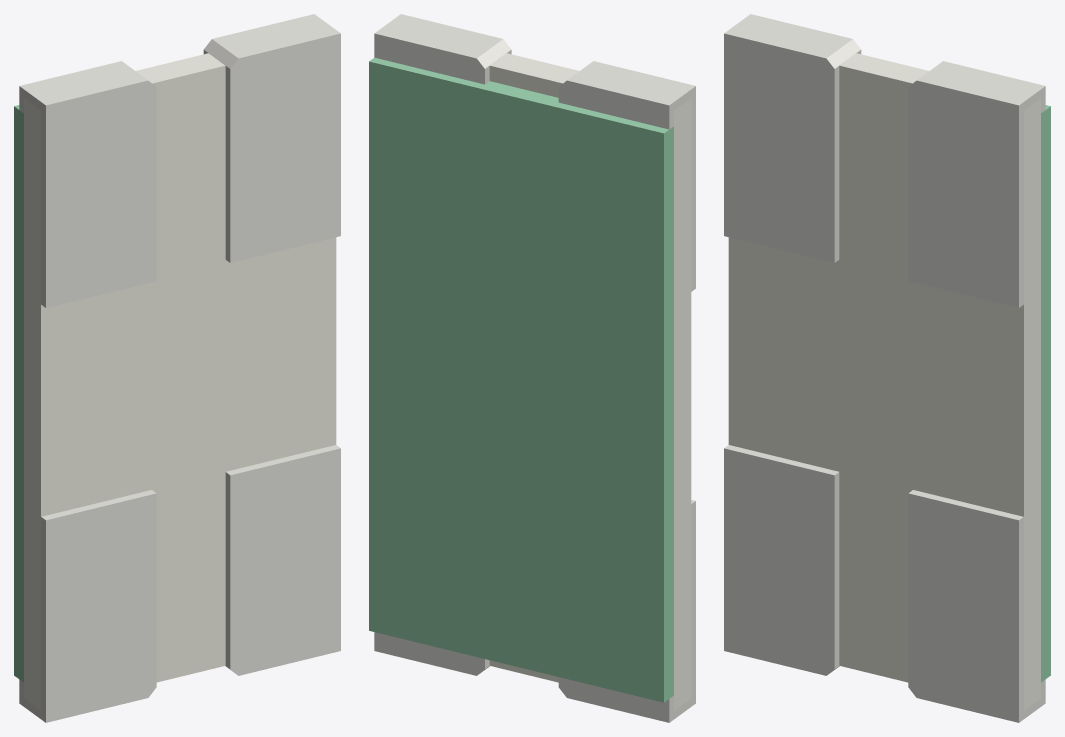
The model's file is R_Shunt_Ohmite_LVK24.glb.
3 renders of one model, left to right at view 1: azimuth 30°, elevation 25°; view 2: azimuth 150°, elevation 25°; view 3: azimuth 330°, elevation 25°, orthographic.
Visible parts, largest first — view 1: Shape_IndexedFaceSet.009, Shape_IndexedFaceSet.026, Shape_IndexedFaceSet.032, Shape_IndexedFaceSet, Shape_IndexedFaceSet.036, Shape_IndexedFaceSet.020, Shape_IndexedFaceSet.025, Shape_IndexedFaceSet.027, Shape_IndexedFaceSet.039, Shape_IndexedFaceSet.034, Shape_IndexedFaceSet.035, Shape_IndexedFaceSet.023 (+4 smaller); view 2: Shape_IndexedFaceSet.015, Shape_IndexedFaceSet.020, Shape_IndexedFaceSet.025, Shape_IndexedFaceSet.027, Shape_IndexedFaceSet.039, Shape_IndexedFaceSet.029, Shape_IndexedFaceSet.028, Shape_IndexedFaceSet.024, Shape_IndexedFaceSet.006, Shape_IndexedFaceSet.014, Shape_IndexedFaceSet.034, Shape_IndexedFaceSet.035 (+2 smaller); view 3: Shape_IndexedFaceSet.009, Shape_IndexedFaceSet.036, Shape_IndexedFaceSet, Shape_IndexedFaceSet.026, Shape_IndexedFaceSet.032, Shape_IndexedFaceSet.007, Shape_IndexedFaceSet.008, Shape_IndexedFaceSet.039, Shape_IndexedFaceSet.027, Shape_IndexedFaceSet.003, Shape_IndexedFaceSet.013, Shape_IndexedFaceSet.023 (+4 smaller).
Part boxes in pixels (bbox=[...]): Shape_IndexedFaceSet.009: bbox=[41, 65, 336, 682]; Shape_IndexedFaceSet.026: bbox=[230, 33, 340, 262]; Shape_IndexedFaceSet.032: bbox=[46, 493, 156, 722]; Shape_IndexedFaceSet: bbox=[230, 448, 340, 675]; Shape_IndexedFaceSet.036: bbox=[46, 80, 156, 307]; Shape_IndexedFaceSet.020: bbox=[24, 98, 40, 710]; Shape_IndexedFaceSet.025: bbox=[14, 106, 23, 682]; Shape_IndexedFaceSet.027: bbox=[212, 14, 340, 58]; Shape_IndexedFaceSet.039: bbox=[20, 61, 147, 105]; Shape_IndexedFaceSet.034: bbox=[19, 517, 45, 722]; Shape_IndexedFaceSet.035: bbox=[19, 86, 45, 307]; Shape_IndexedFaceSet.023: bbox=[136, 53, 224, 83]; Shape_IndexedFaceSet.015: bbox=[369, 61, 663, 702]; Shape_IndexedFaceSet.020: bbox=[674, 98, 691, 710]; Shape_IndexedFaceSet.025: bbox=[664, 126, 673, 702]; Shape_IndexedFaceSet.027: bbox=[374, 14, 502, 58]; Shape_IndexedFaceSet.039: bbox=[567, 61, 695, 105]; Shape_IndexedFaceSet.029: bbox=[558, 80, 669, 129]; Shape_IndexedFaceSet.028: bbox=[374, 33, 484, 84]; Shape_IndexedFaceSet.024: bbox=[558, 677, 669, 722]; Shape_IndexedFaceSet.006: bbox=[374, 632, 484, 675]; Shape_IndexedFaceSet.014: bbox=[369, 57, 668, 133]; Shape_IndexedFaceSet.034: bbox=[669, 501, 695, 722]; Shape_IndexedFaceSet.035: bbox=[669, 86, 695, 291]; Shape_IndexedFaceSet.009: bbox=[728, 65, 1023, 682]; Shape_IndexedFaceSet.036: bbox=[724, 33, 834, 262]; Shape_IndexedFaceSet: bbox=[908, 493, 1018, 722]; Shape_IndexedFaceSet.026: bbox=[908, 80, 1018, 307]; Shape_IndexedFaceSet.032: bbox=[724, 448, 834, 675]; Shape_IndexedFaceSet.007: bbox=[1024, 98, 1040, 710]; Shape_IndexedFaceSet.008: bbox=[1041, 106, 1050, 682]; Shape_IndexedFaceSet.039: bbox=[724, 14, 852, 58]; Shape_IndexedFaceSet.027: bbox=[917, 61, 1044, 105]; Shape_IndexedFaceSet.003: bbox=[1019, 517, 1045, 722]; Shape_IndexedFaceSet.013: bbox=[1019, 86, 1045, 307]; Shape_IndexedFaceSet.023: bbox=[840, 53, 928, 83].
Bounding box in the file's own units: 1.26 × 2.52 × 0.2362.
